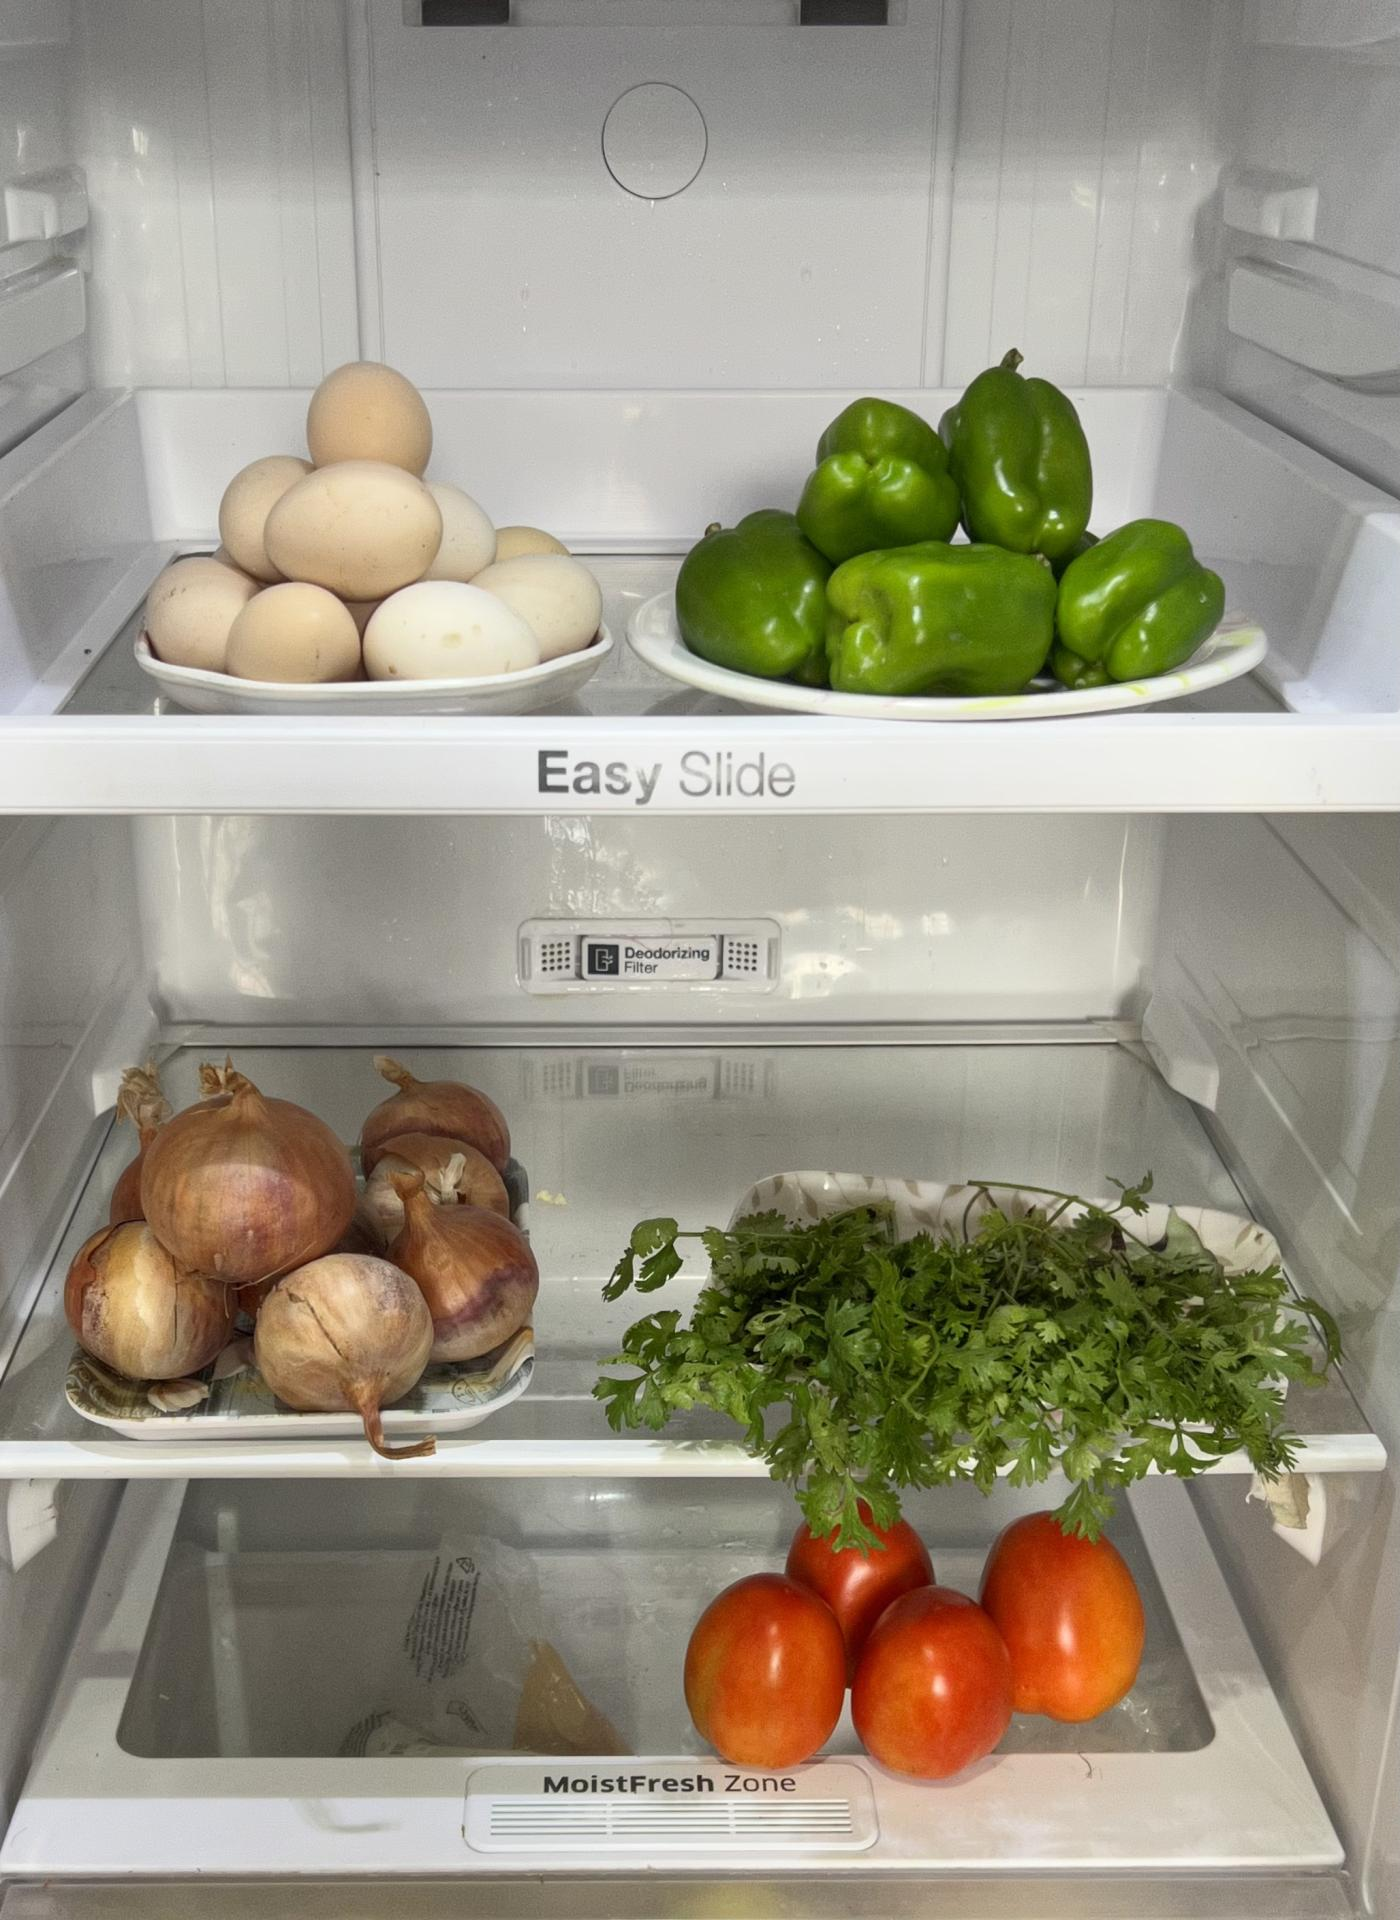capsicum: (668, 368, 1266, 695)
coriander: (638, 1187, 1319, 1465)
egg: (136, 359, 608, 686)
onion: (63, 1057, 540, 1412)
tomato: (674, 1497, 1155, 1775)
